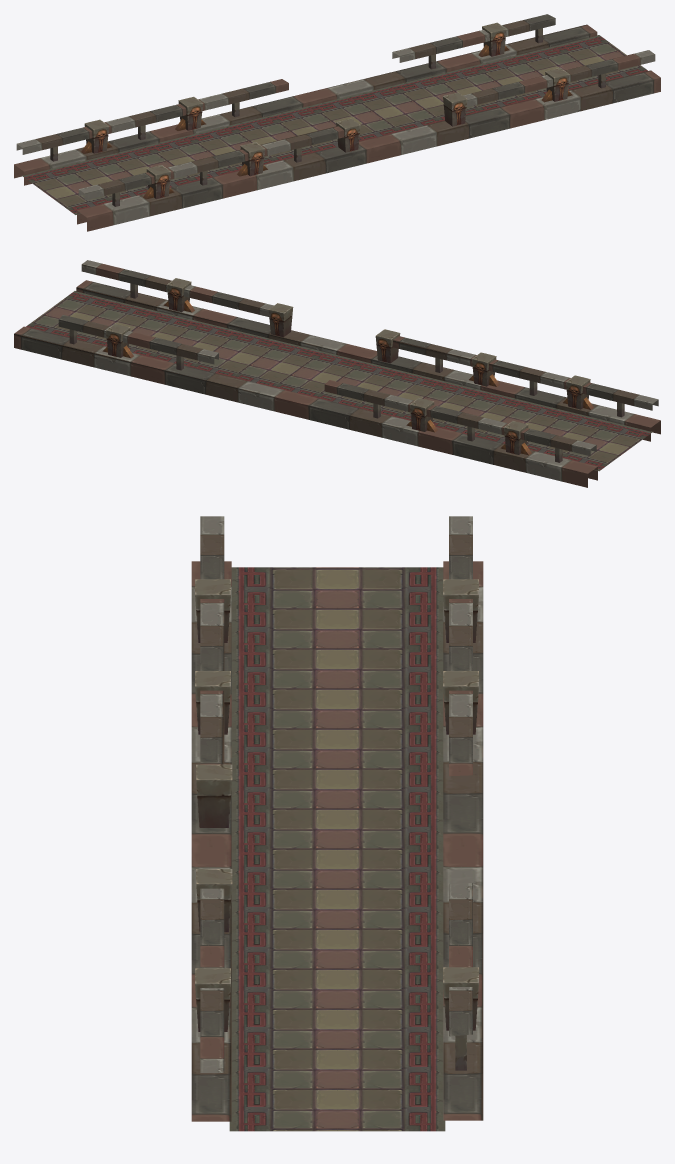
File: langan_02.FBX
The picture shows the model from 3 angles, top to bottom: view 1: azimuth 30°, elevation 25°; view 2: azimuth 150°, elevation 25°; view 3: azimuth 270°, elevation 25°; orthographic projection. The views are drawn at different scales.
Visible parts, largest first — view 1: Box478, Plane76, 对象58, Box477, 对象379; view 2: Box478, Plane76, 对象58, Box477, 对象379; view 3: Plane76, Box478, 对象58, Box477, 对象379.
Boxes of the visible parts, box(x1,y1,x2,y2) form: Box478: box(14, 14, 660, 231); Plane76: box(22, 35, 647, 214); 对象58: box(50, 22, 605, 206); Box477: box(78, 126, 344, 200); 对象379: box(463, 50, 655, 107); Box478: box(14, 280, 660, 487); Plane76: box(26, 291, 652, 471); 对象58: box(69, 278, 624, 462); Box477: box(392, 336, 658, 410); 对象379: box(81, 260, 273, 316); Plane76: box(229, 567, 445, 1131); Box478: box(191, 516, 483, 1121); 对象58: box(195, 579, 478, 1070); Box477: box(200, 516, 224, 764); 对象379: box(200, 888, 224, 1072).
Size of the model in its own units: 1523 by 98.2 by 333.
